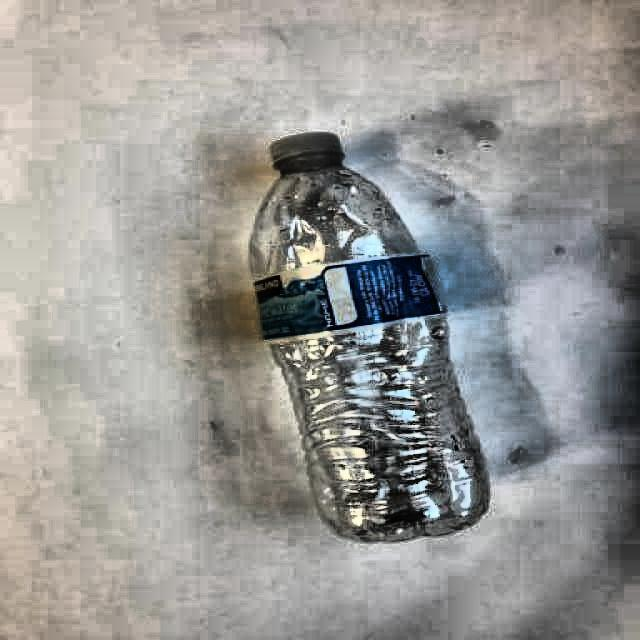plastic: (250, 132, 489, 541)
